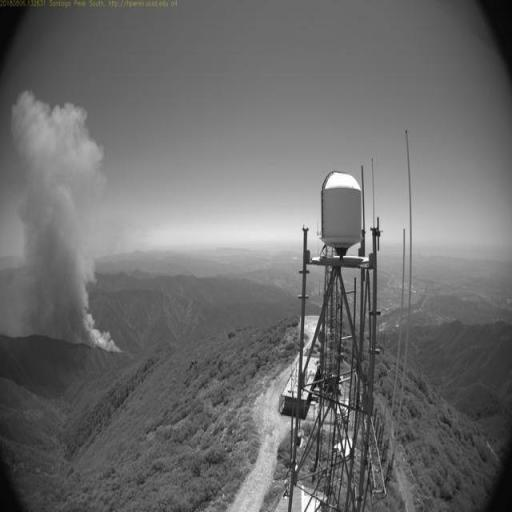smoke: (0, 88, 122, 359)
